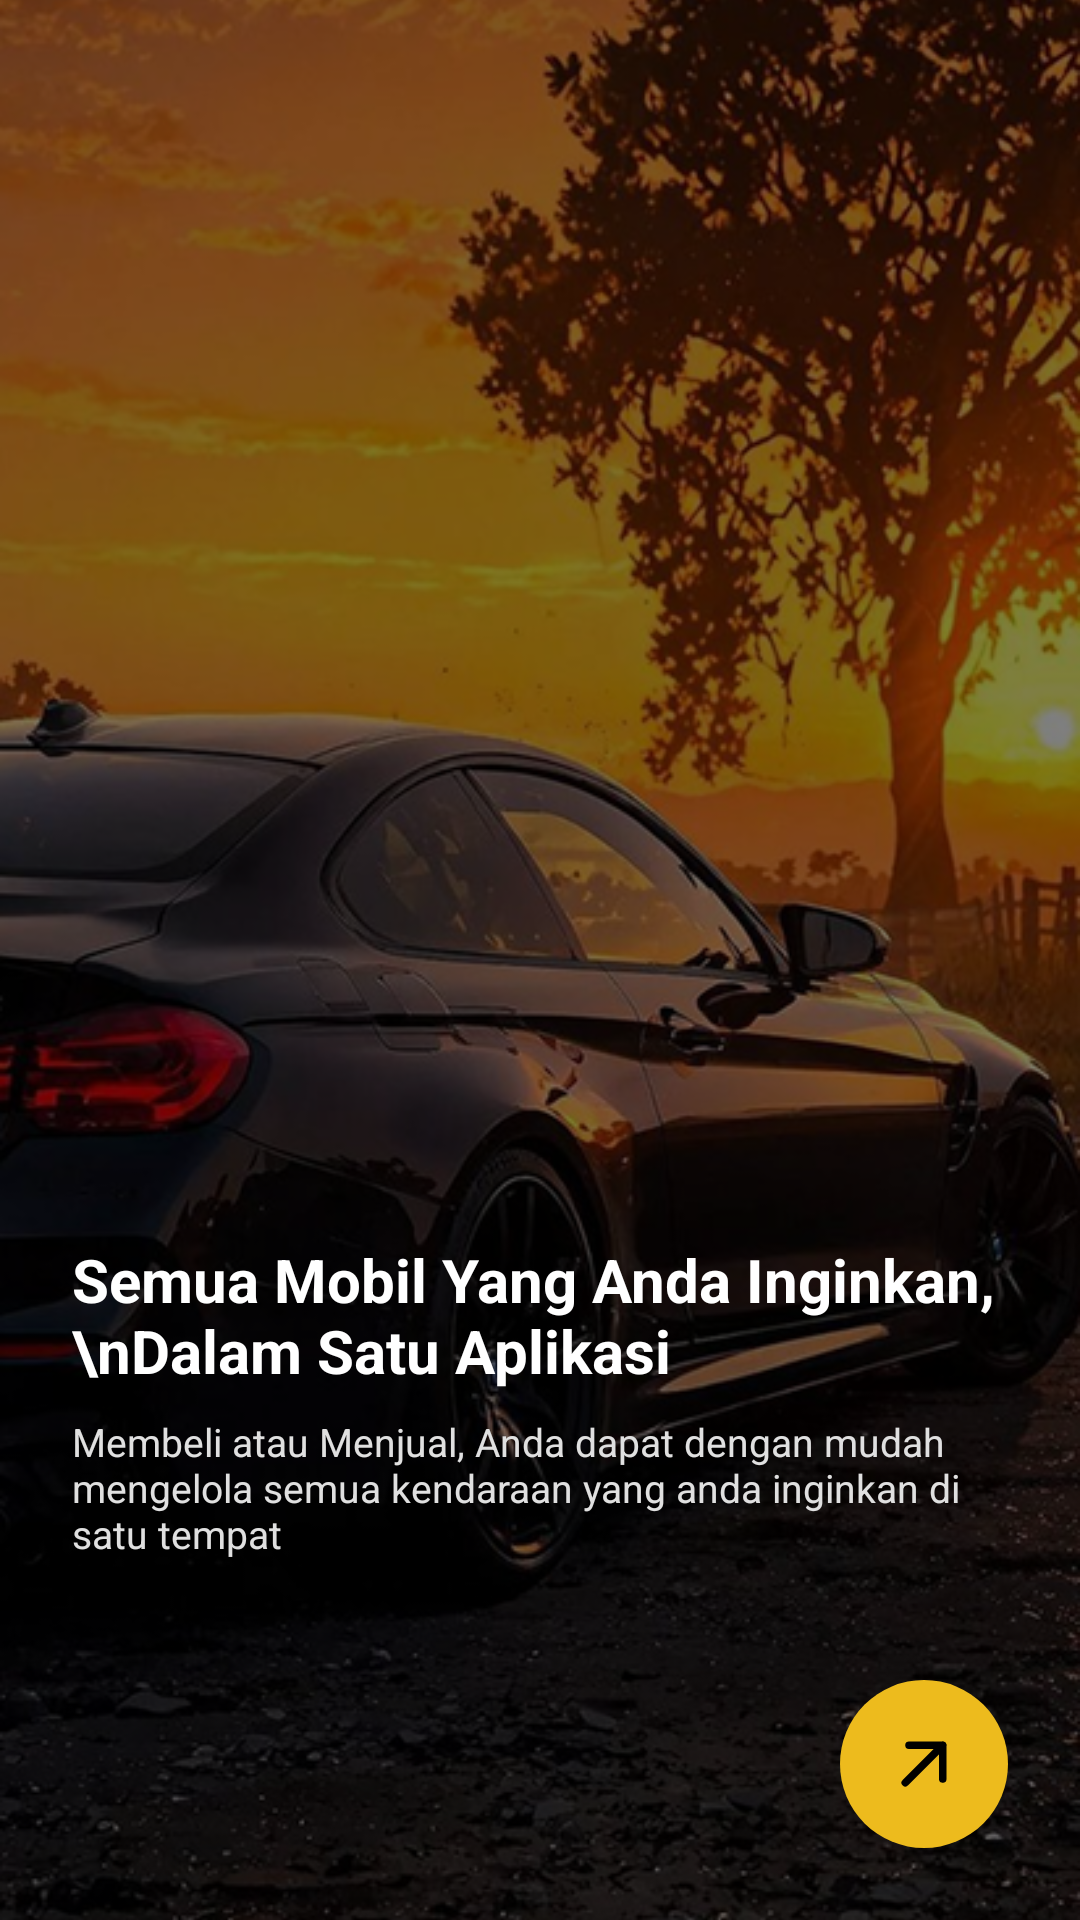

Locate icon controls on the screen. Image size 1080px x 1920px, boxes as (x1, y1, x2, y2).
arrow right: (840, 1680, 1008, 1848)
